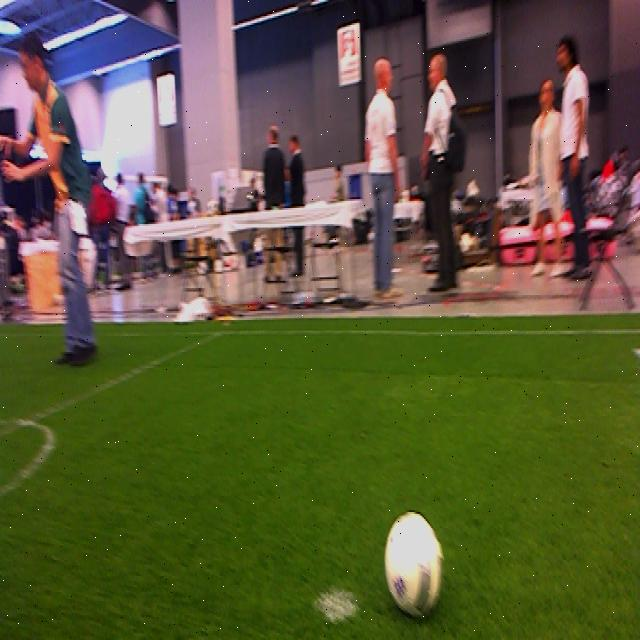ball: (385, 510, 444, 615)
